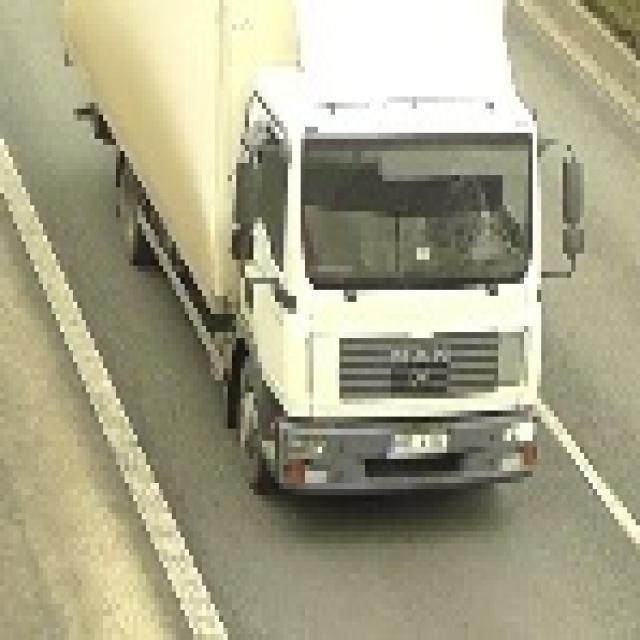Truck: (64, 0, 588, 501)
